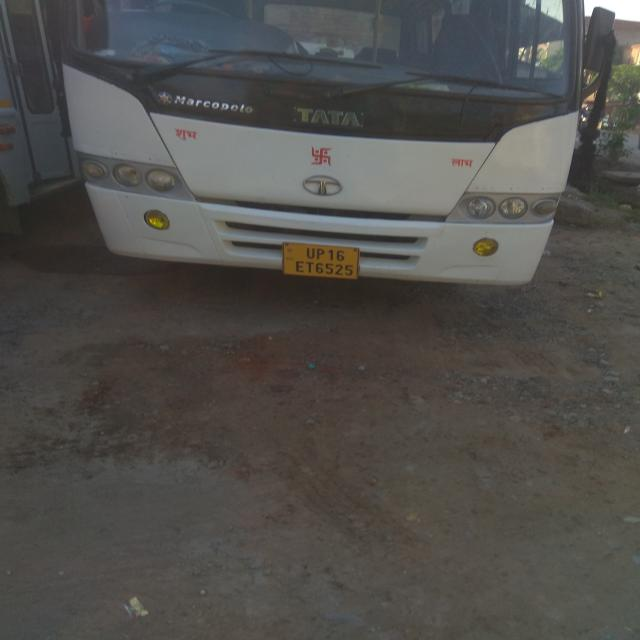Bus: (63, 0, 600, 285)
